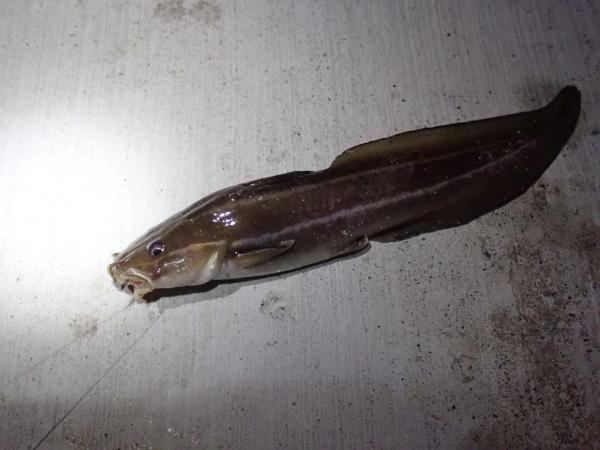gonzui: (101, 73, 590, 314)
